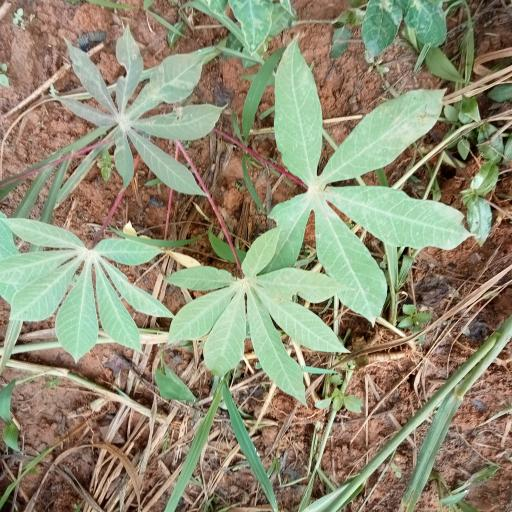Cassava_Mosaic: (255, 45, 462, 314), (63, 41, 229, 213), (173, 263, 351, 399), (10, 214, 181, 351)
